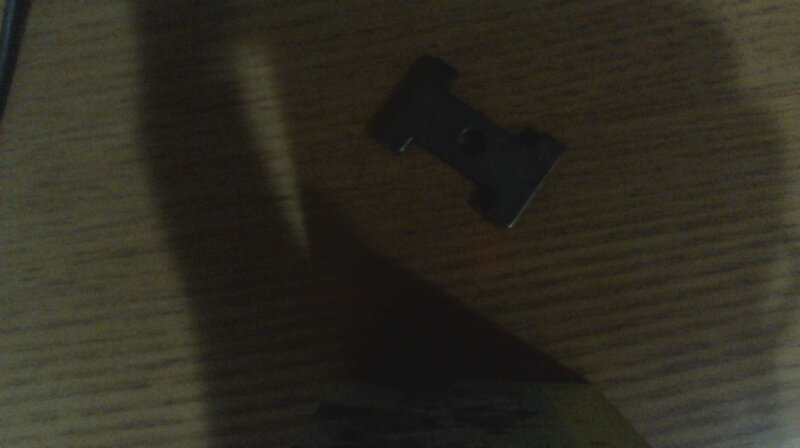O002: (363, 51, 568, 232)
